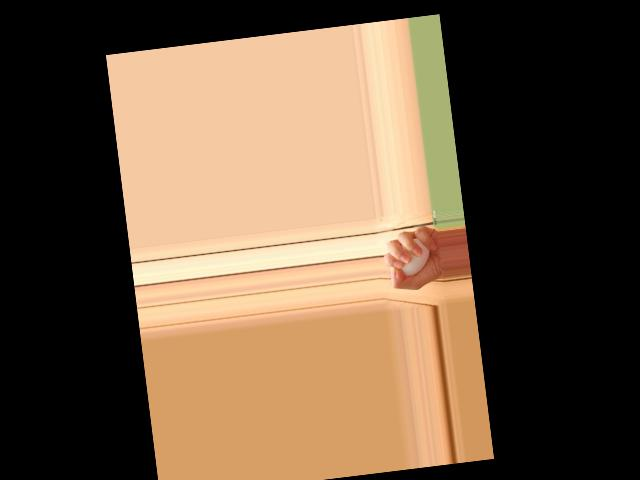egg: (398, 236, 432, 276)
